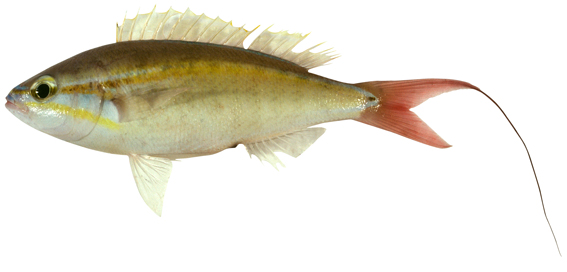fish: (4, 6, 480, 215)
